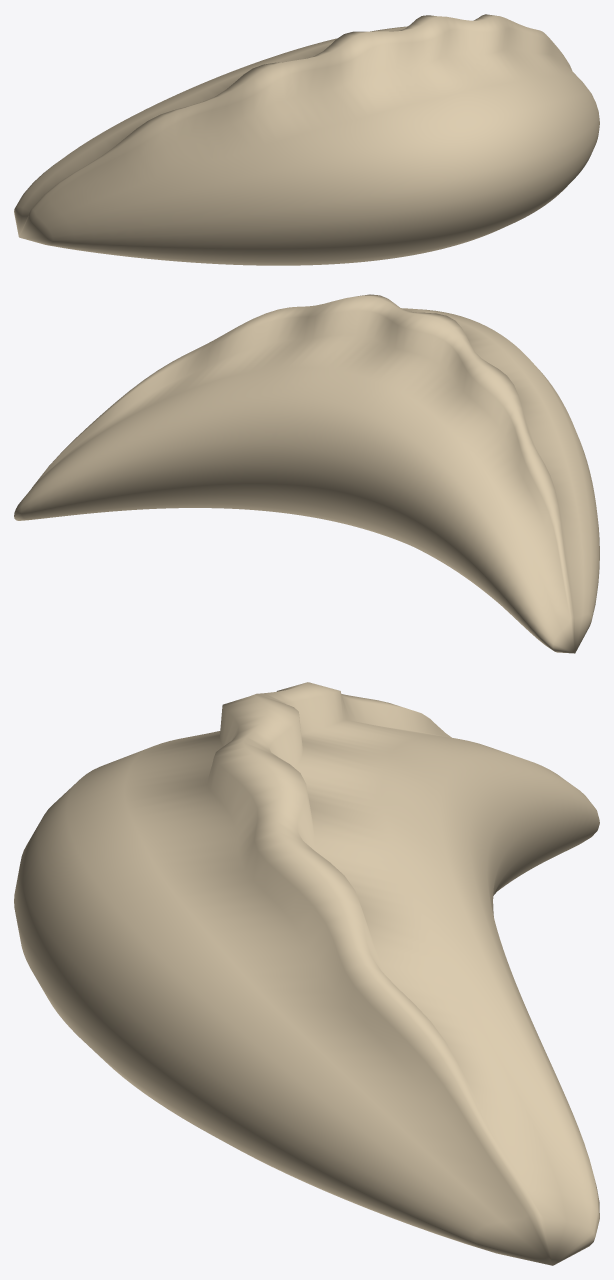
File: NEW_RECOVERY_043_LOD1.glb
3 views of the same model, one above another, from view 1: azimuth 30°, elevation 25°; view 2: azimuth 150°, elevation 25°; view 3: azimuth 270°, elevation 25° (orthographic). The views are drawn at different scales.
Visible parts, largest first — view 1: Whole crescent dumpling; view 2: Whole crescent dumpling; view 3: Whole crescent dumpling.
Part boxes in pixels (x1,y1,x2,y2): Whole crescent dumpling: (14,14,599,265); Whole crescent dumpling: (14,294,599,653); Whole crescent dumpling: (14,682,599,1265).
Size of the model in its own units: 2 by 0.7236 by 1.17.
